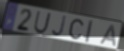2: (16, 9, 34, 33)
A: (99, 24, 117, 48)
C: (68, 18, 85, 41)
I: (85, 19, 94, 44)
J: (51, 15, 68, 38)
U: (32, 11, 53, 36)
